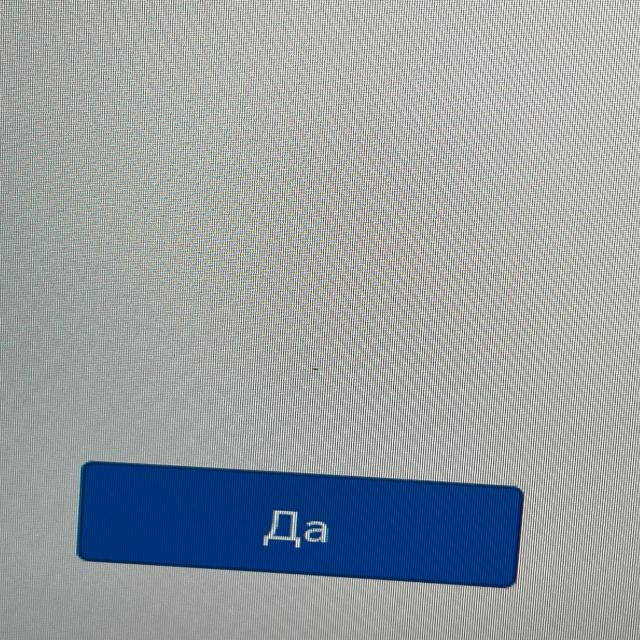Dead pixel: (312, 368, 319, 371)
